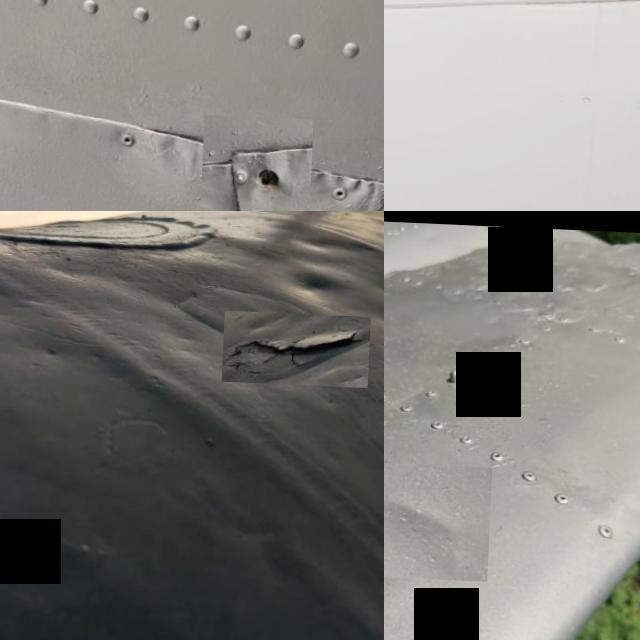Crack: (224, 308, 374, 384)
Dent: (384, 458, 494, 577), (281, 249, 360, 301), (613, 464, 640, 557)
Missing_Fastener: (202, 111, 315, 211)
